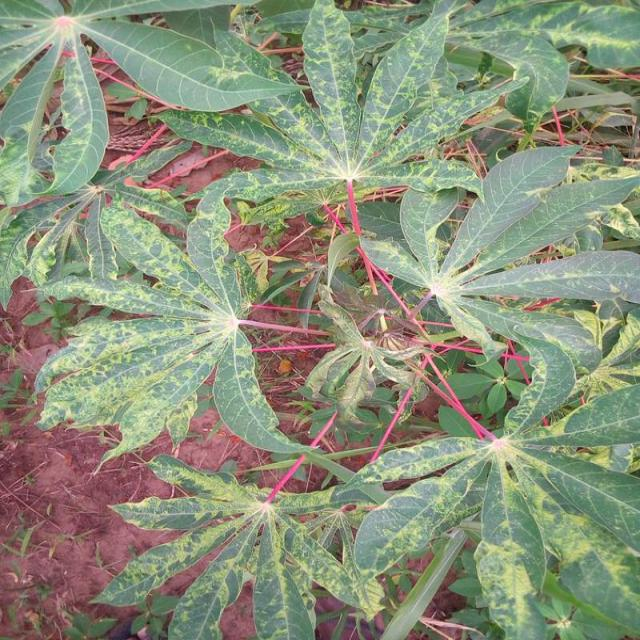cassava leaf: (2, 1, 638, 638), (32, 181, 305, 474)
